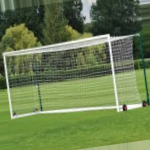goals: (2, 32, 144, 117)
